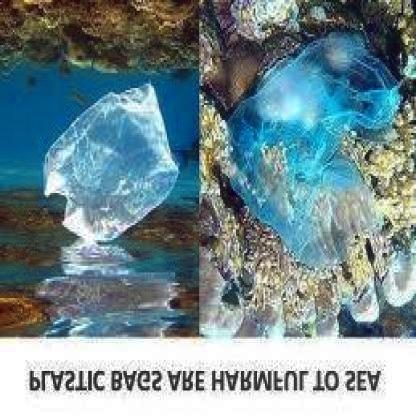pbag: (224, 34, 398, 262), (42, 82, 178, 244)
